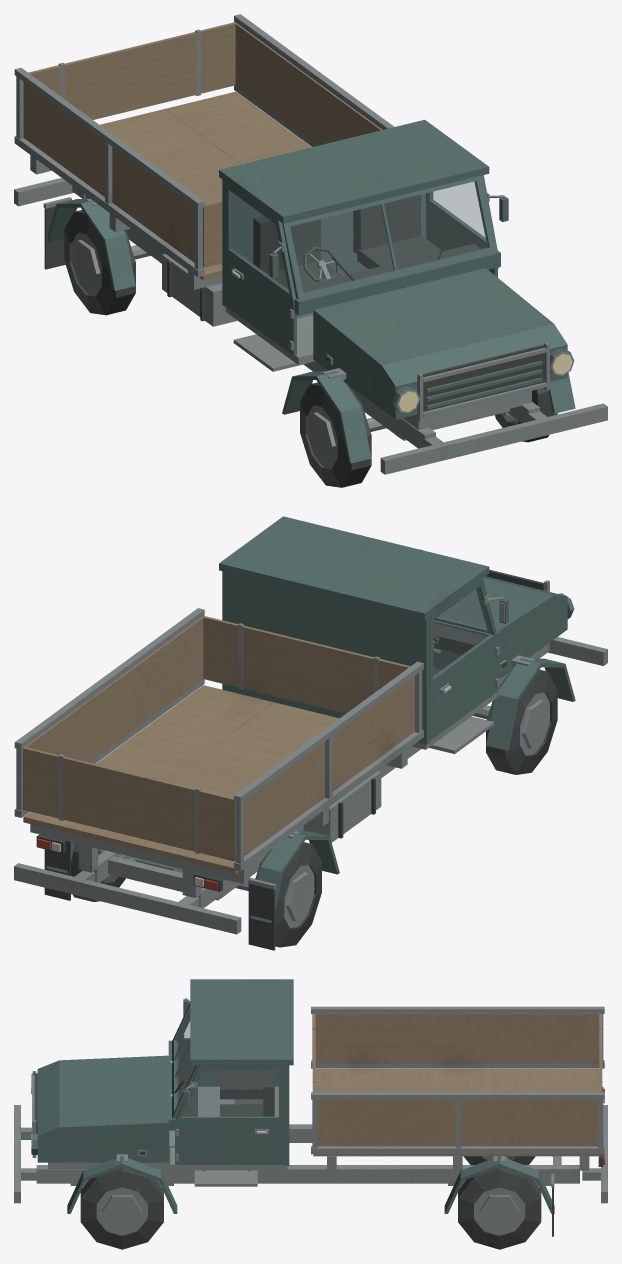
Rendered from utility_truck_parked.glb.
3 views of the same model, one above another, from view 1: azimuth 30°, elevation 25°; view 2: azimuth 150°, elevation 25°; view 3: azimuth 270°, elevation 25° (orthographic). The views are drawn at different scales.
Parts seen in each view (by area): view 1: TruckAssemblyParked, TruckGlassParked; view 2: TruckAssemblyParked, TruckGlassParked; view 3: TruckAssemblyParked, TruckGlassParked.
Boxes of the visible parts, left/top/right/bottom form: TruckAssemblyParked: left=14, top=14, right=607, bottom=487; TruckGlassParked: left=230, top=182, right=487, bottom=291; TruckAssemblyParked: left=14, top=516, right=607, bottom=950; TruckGlassParked: left=434, top=587, right=492, bottom=677; TruckAssemblyParked: left=14, top=979, right=607, bottom=1249; TruckGlassParked: left=176, top=1010, right=278, bottom=1116.
Size of what is drawn, in the model's own units: 2.5 by 2.4 by 6.8.
Materials: 3 (1 with a texture image).
